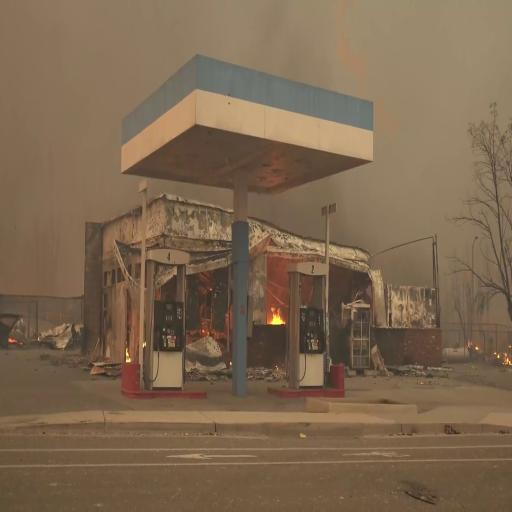fire: (268, 296, 286, 328)
smoke: (284, 192, 324, 234)
